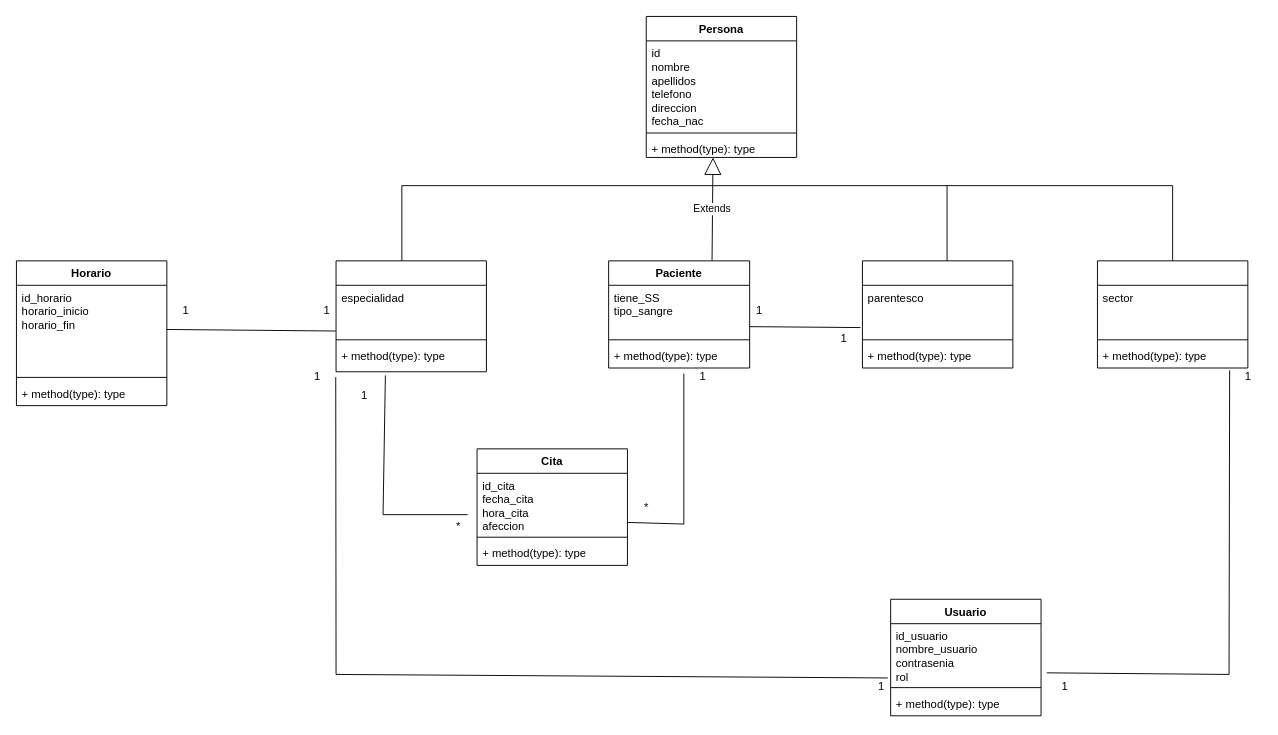
The diagram is 1278 pixels wide and 735 high, and some of its shapes have lost their labels. The shapes that lost their labels are listed below. From the top down, each one's box as (x1, y1, x2, y2) in pixels, then its label:
(335, 260, 486, 372): Odontologo
(862, 260, 1013, 368): Tutor
(1097, 260, 1248, 368): Secretario
